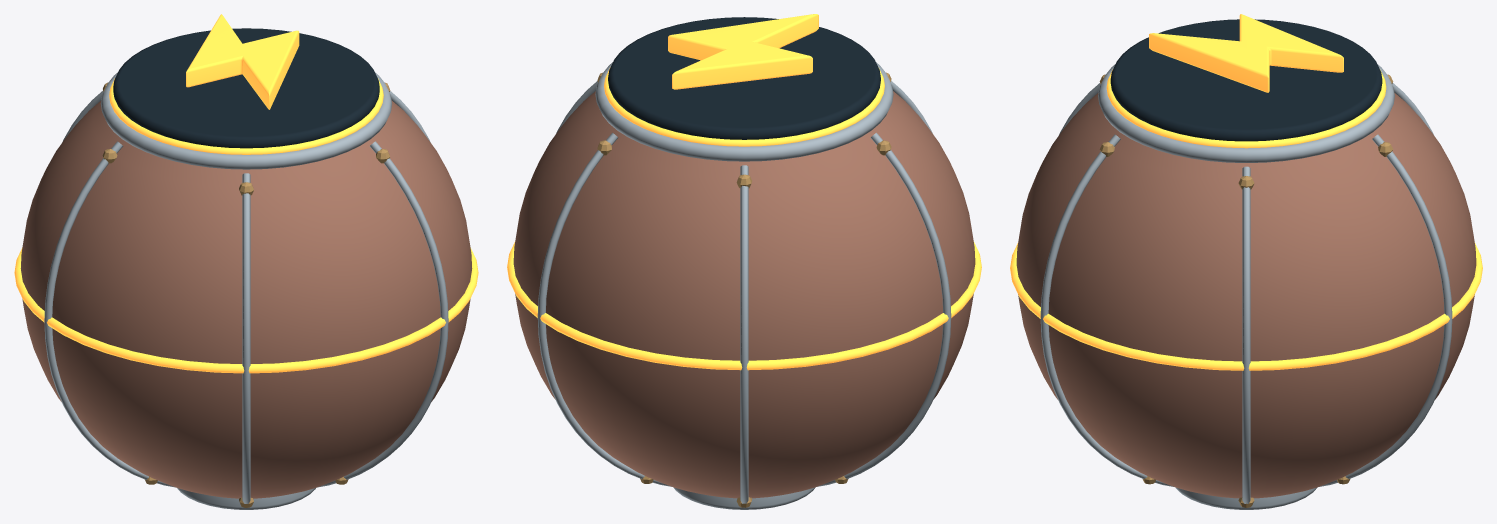
The model's file is pickup-rapid.glb.
3 renders of one model, left to right at view 1: azimuth 30°, elevation 25°; view 2: azimuth 150°, elevation 25°; view 3: azimuth 270°, elevation 25°, orthographic. The views are drawn at different scales.
Visible parts, largest first — view 1: pickup rapid; view 2: pickup rapid; view 3: pickup rapid.
Part boxes in pixels (left/top/right/bottom): pickup rapid: left=14, top=14, right=478, bottom=509; pickup rapid: left=507, top=14, right=981, bottom=509; pickup rapid: left=1010, top=14, right=1482, bottom=509.
Size of the model in its own units: 2.06 by 2.12 by 2.05.
